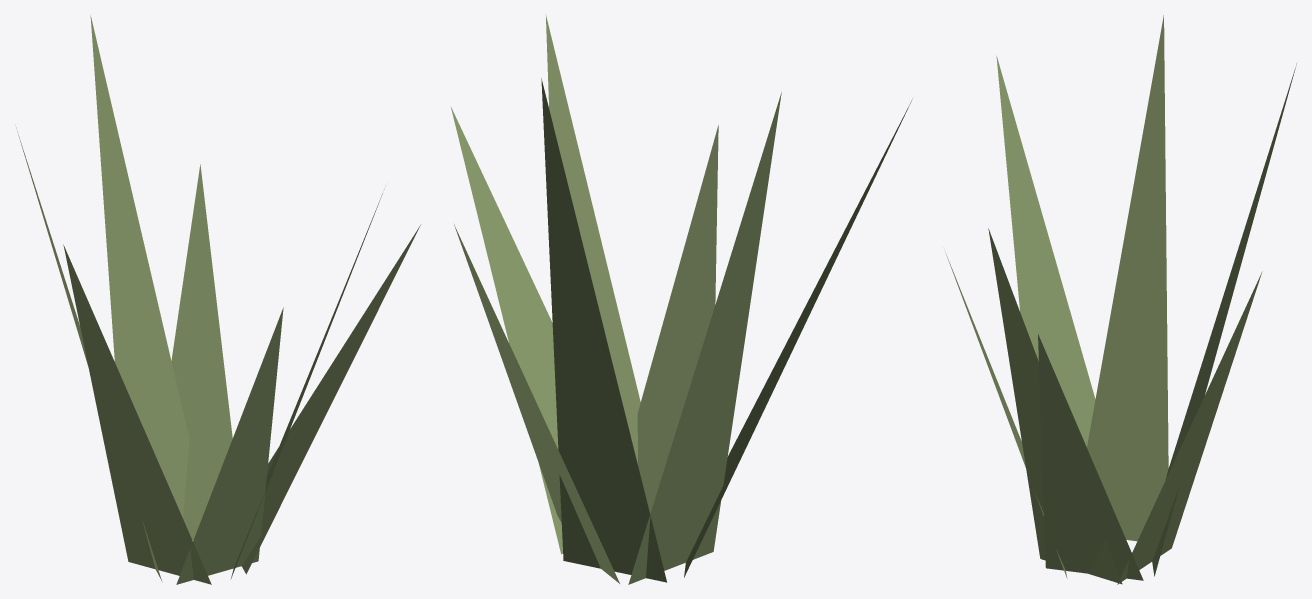
Rendered from grass_tuft_a.glb.
3 views of the same model, side by side, from view 1: azimuth 30°, elevation 25°; view 2: azimuth 150°, elevation 25°; view 3: azimuth 270°, elevation 25° (orthographic). The views are drawn at different scales.
Parts seen in each view (by area): view 1: grass_tuft_a; view 2: grass_tuft_a; view 3: grass_tuft_a.
Part boxes in pixels (bbox=[...]): grass_tuft_a: bbox=[16, 15, 420, 584]; grass_tuft_a: bbox=[450, 14, 912, 584]; grass_tuft_a: bbox=[945, 15, 1296, 584].
Size of the model in its own units: 0.3075 by 0.3715 by 0.2429.
